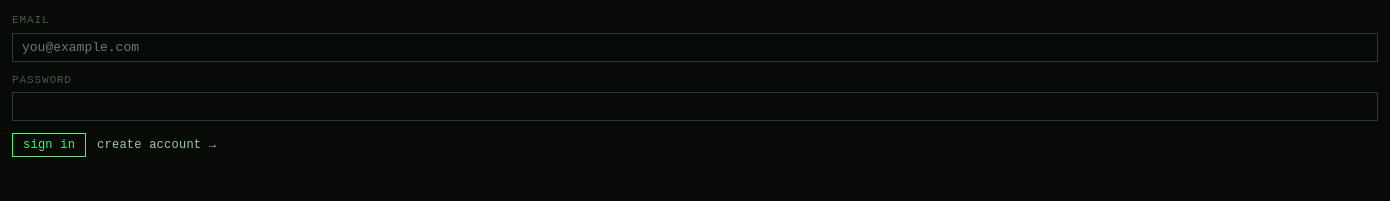
Test case: native sign-in failure handling › leaves the busy state and explains an IPC rejection instead of hanging forever
The image size is (1390, 201).
Type "me@example.com" into the field with placeholder "you@example.com" at (695, 47), box [12,32,1378,62]
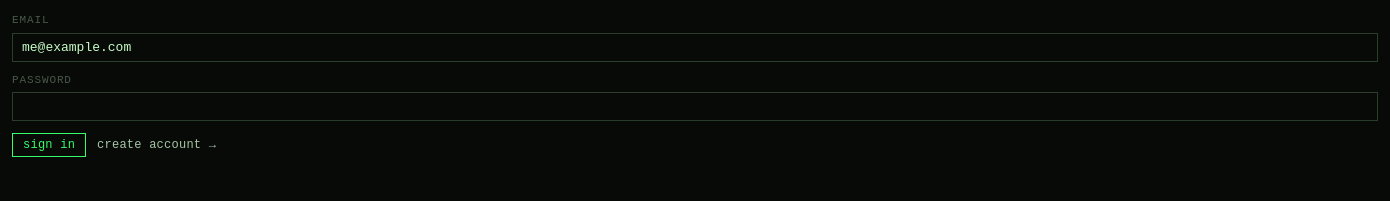
Type "secret" into the password field at (695, 106), box [12,92,1378,121]
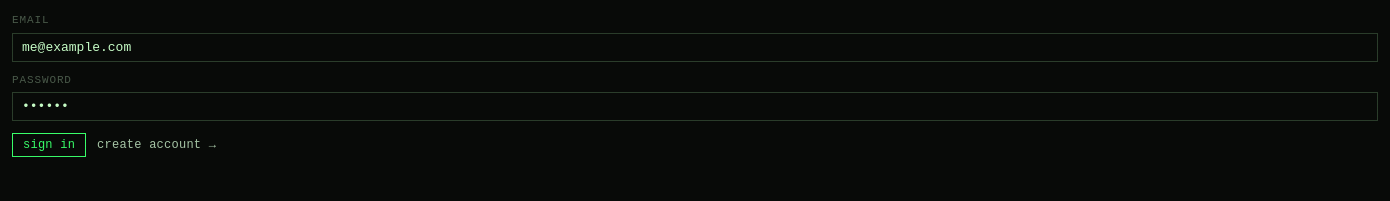
Click the button "sign in" at (49, 145), box [12,133,86,157]
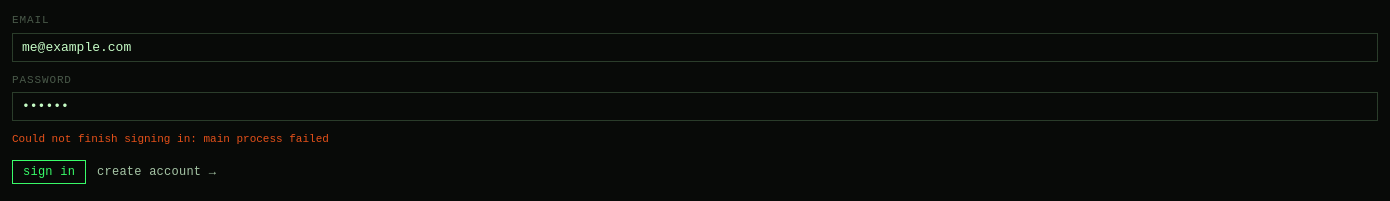
Expected: the button "sign in" is enabled, [12,160,86,184]
Expected: the text "Could not finish signing in: main process failed" is shown, [12,133,329,145]
